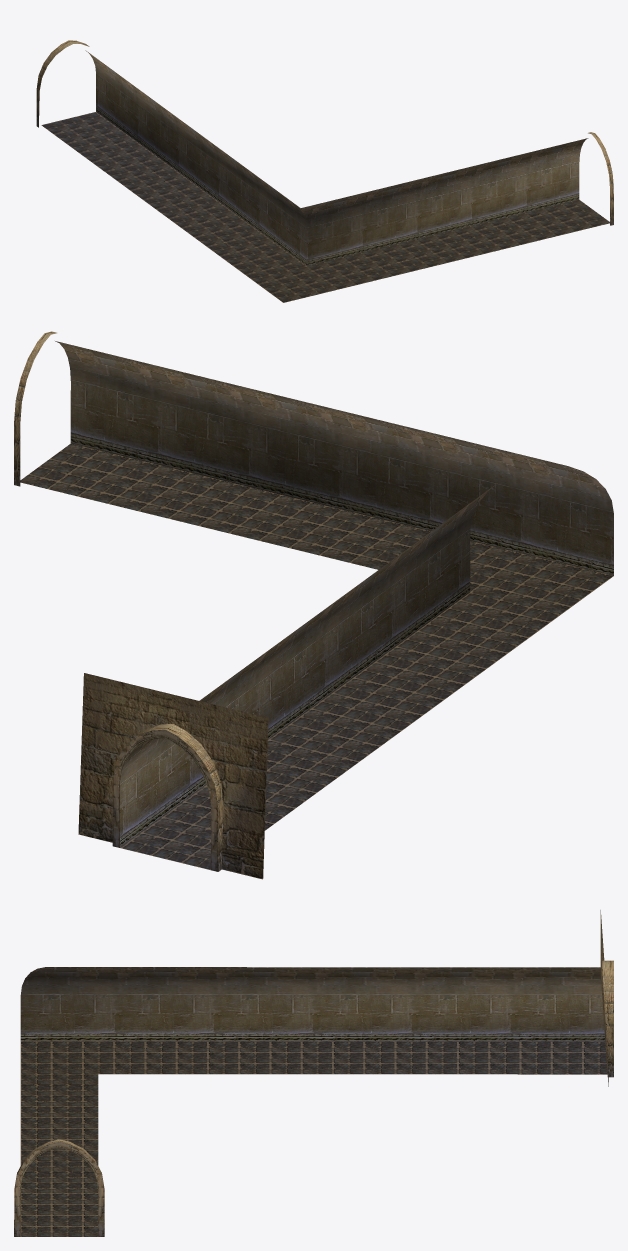
Rendered from M7Z1_Tunnel2.glb.
3 views of the same model, one above another, from view 1: azimuth 30°, elevation 25°; view 2: azimuth 150°, elevation 25°; view 3: azimuth 270°, elevation 25° (orthographic). The views are drawn at different scales.
Visible parts, largest first — view 1: M7Z1_TUNNEL2; view 2: M7Z1_TUNNEL2; view 3: M7Z1_TUNNEL2.
Part boxes in pixels (box(x1,y1,x2,y2)): M7Z1_TUNNEL2: box(36, 40, 613, 302); M7Z1_TUNNEL2: box(14, 331, 613, 879); M7Z1_TUNNEL2: box(14, 910, 613, 1236).
Bounding box in the file's own units: 19.21 × 4.9 × 22.9.
Materials: 4 (4 with a texture image).
